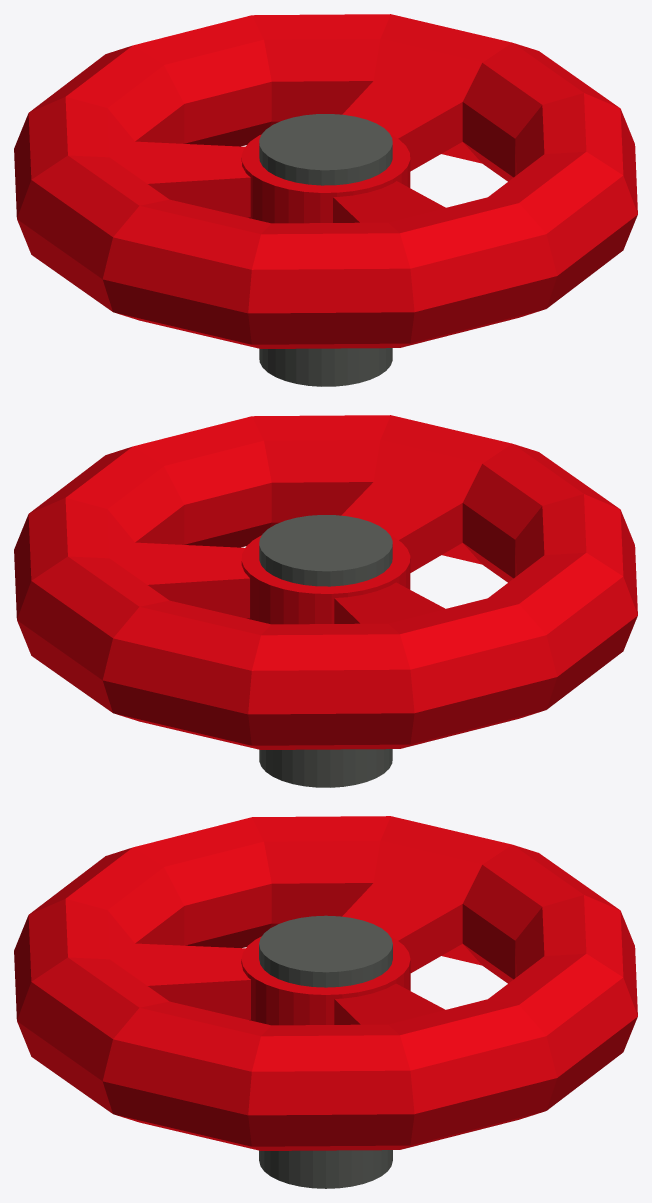
The model's file is Wheel.fbx.
The picture shows the model from 3 angles, top to bottom: view 1: azimuth 30°, elevation 25°; view 2: azimuth 150°, elevation 25°; view 3: azimuth 270°, elevation 25°; orthographic projection.
Visible parts, largest first — view 1: Torus.001, Cylinder; view 2: Torus.001, Cylinder; view 3: Torus.001, Cylinder.
Boxes of the visible parts, x1,y1,x2,y2 form: Torus.001: (14,14,637,348); Cylinder: (259,114,392,386); Torus.001: (14,415,637,749); Cylinder: (259,515,392,787); Torus.001: (14,816,637,1150); Cylinder: (259,915,392,1188).
Bounding box in the file's own units: 243 × 101 × 243.
